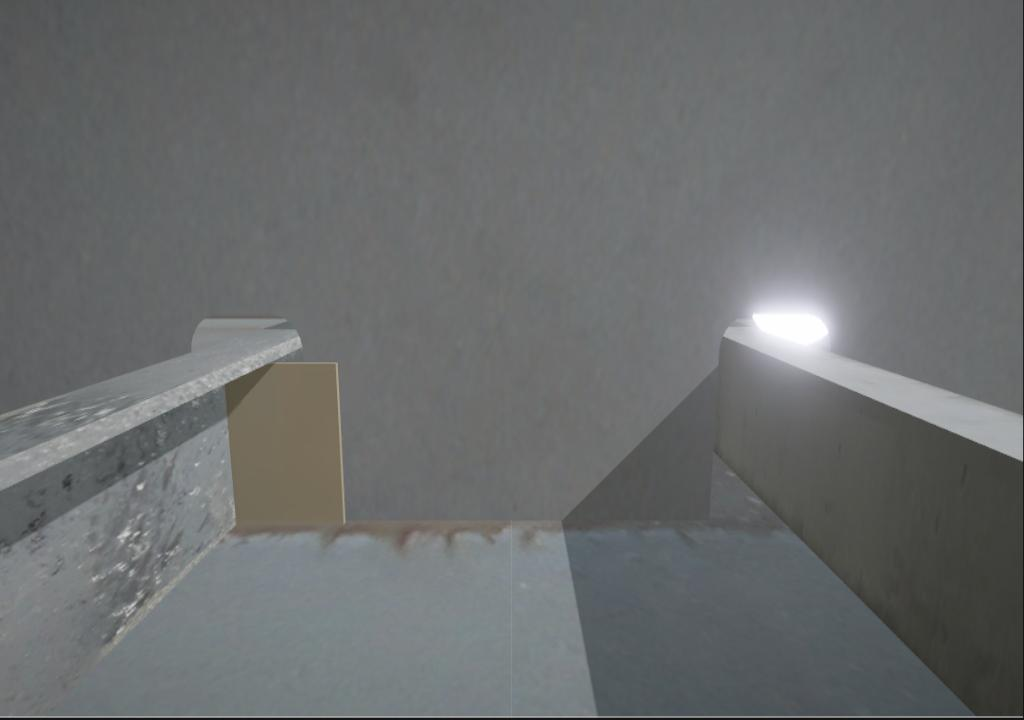fillet_yong_jeop_jang: (344, 514, 711, 526)
plate_CP01: (225, 360, 344, 522)
